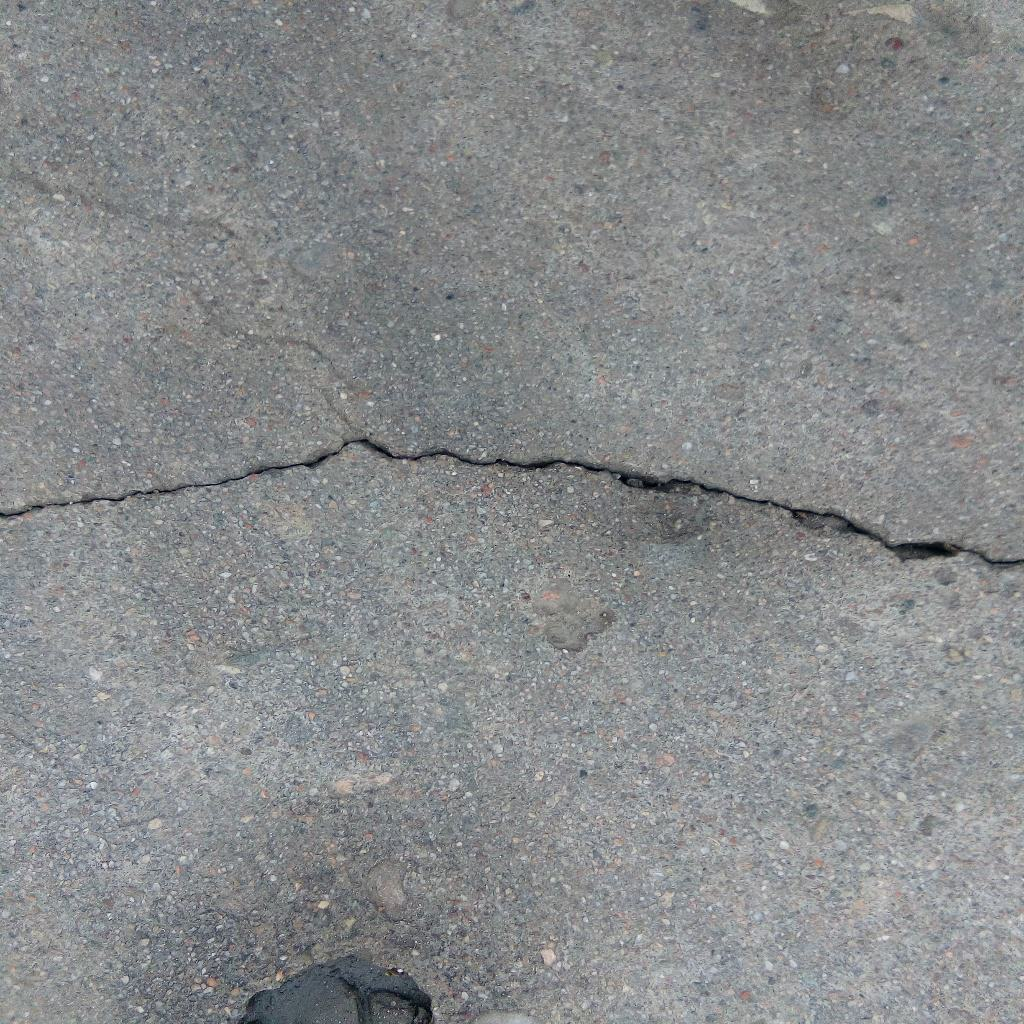Crack: (1, 433, 1024, 567)
Spalling: (236, 954, 436, 1024)
